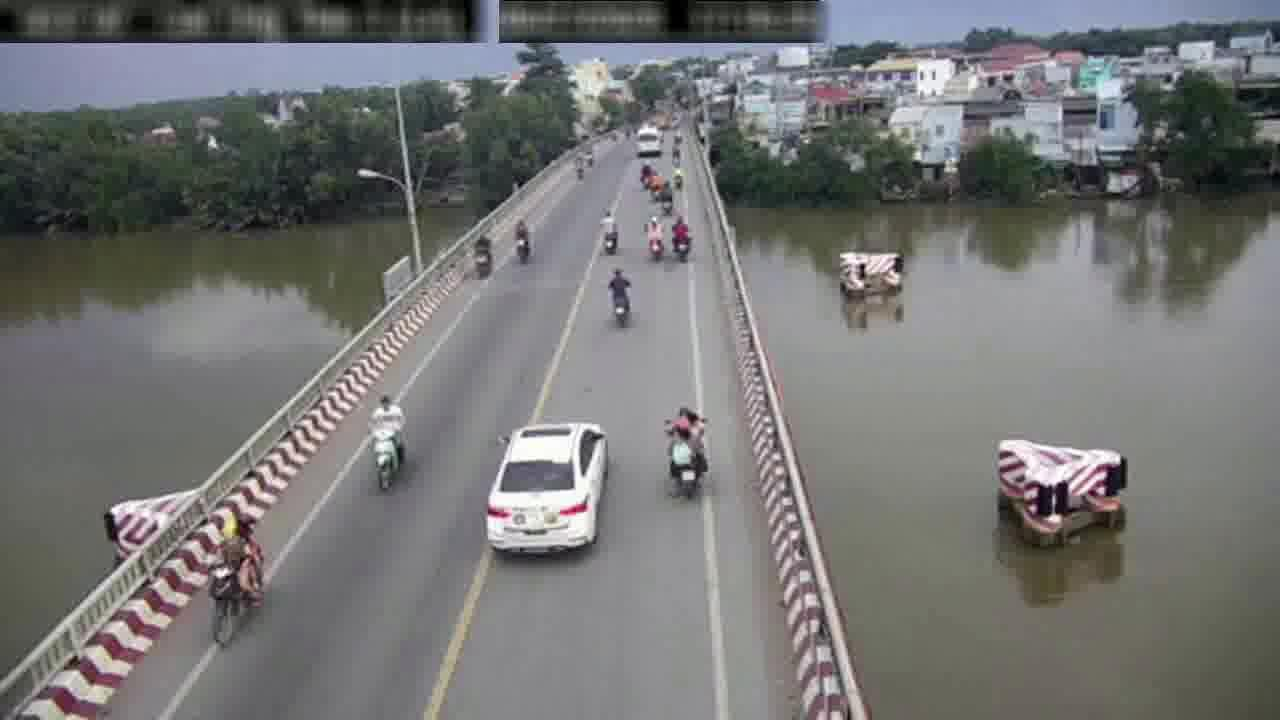container: (479, 416, 608, 559)
motorbike: (207, 513, 263, 653), (365, 388, 408, 495), (664, 400, 709, 496), (609, 266, 632, 326), (671, 212, 693, 265), (513, 213, 534, 268), (473, 231, 493, 282), (642, 213, 663, 259), (596, 209, 616, 253)
